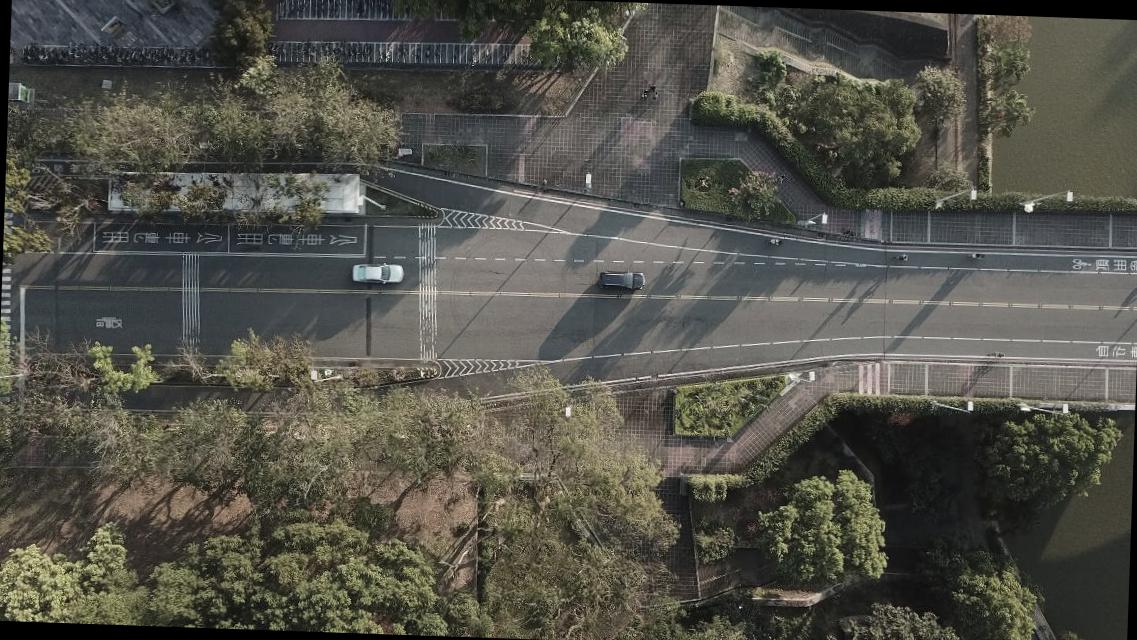vehicle: (349, 261, 402, 285), (598, 269, 645, 291)
